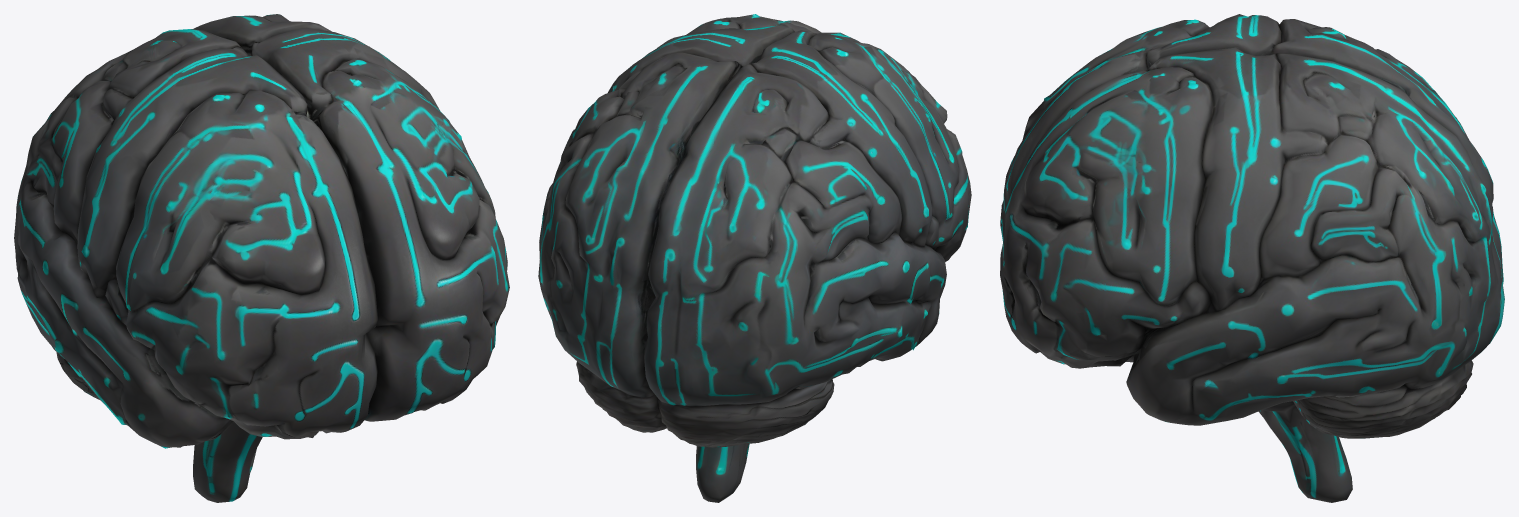
Rendered from brain.glb.
3 renders of one model, left to right at view 1: azimuth 30°, elevation 25°; view 2: azimuth 150°, elevation 25°; view 3: azimuth 270°, elevation 25°, orthographic. The views are drawn at different scales.
Bounding box in the file's own units: 1.69 × 2 × 2.
1 material, 1 textured.
